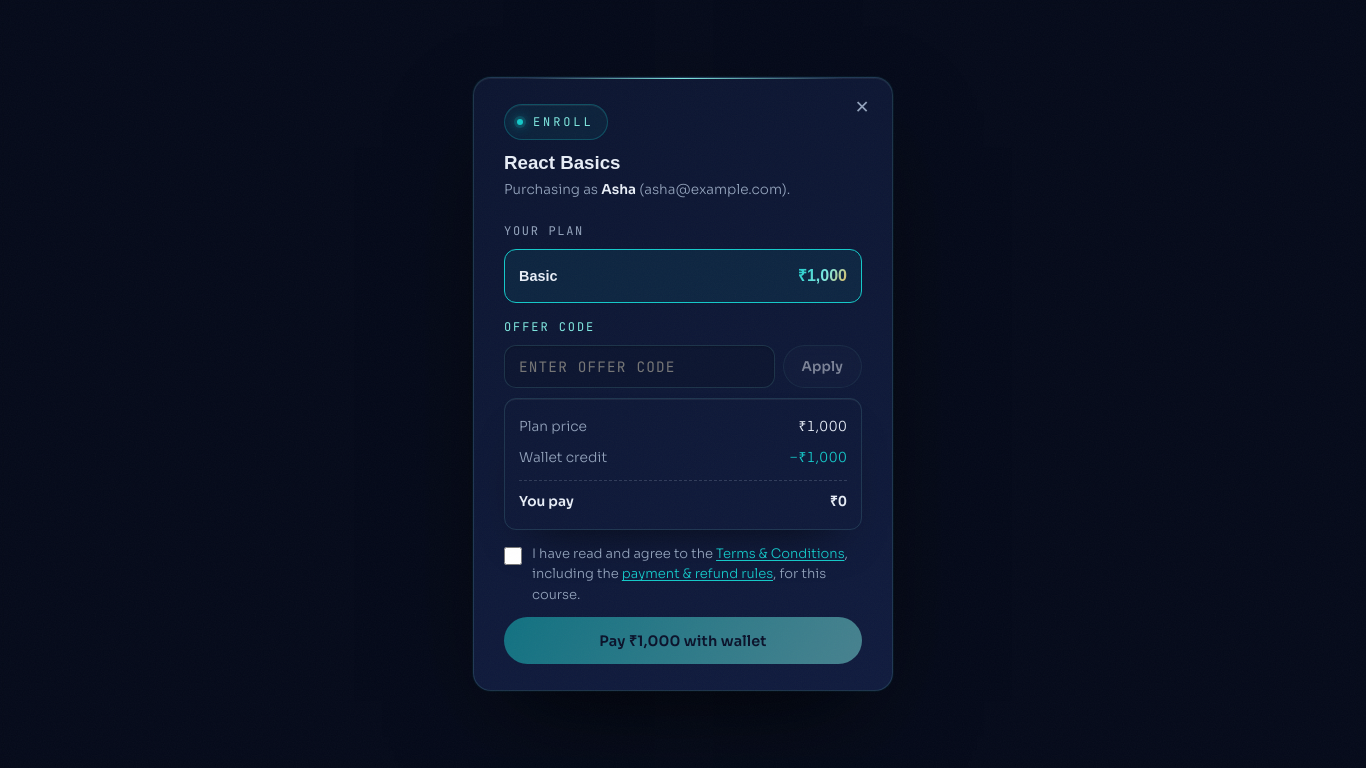
Test: BuyModal with a wallet › offers to pay from the wallet when it covers the price, and never starts a Razorpay order
The width and height of the screenshot is (1366, 768).
Expected: the submit button reads "Pay ₹1,000 with wallet", 504,617 -> 862,664
Expected: the element with class "is-total" reads "You pay ₹0", 519,480 -> 847,517
Step 1. Click the checkbox → click(513, 556), box 504,547 -> 522,565
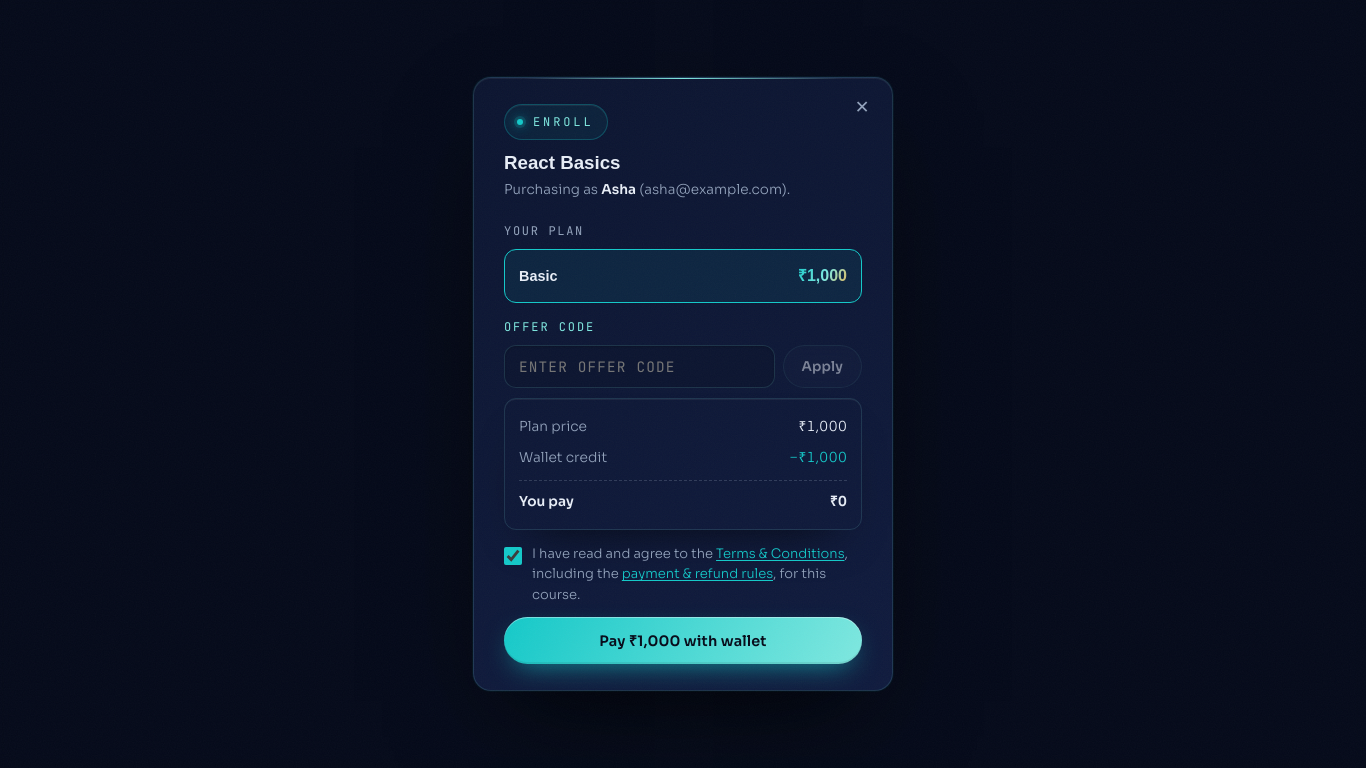
Step 2. Submit the form, box 504,221 -> 862,664
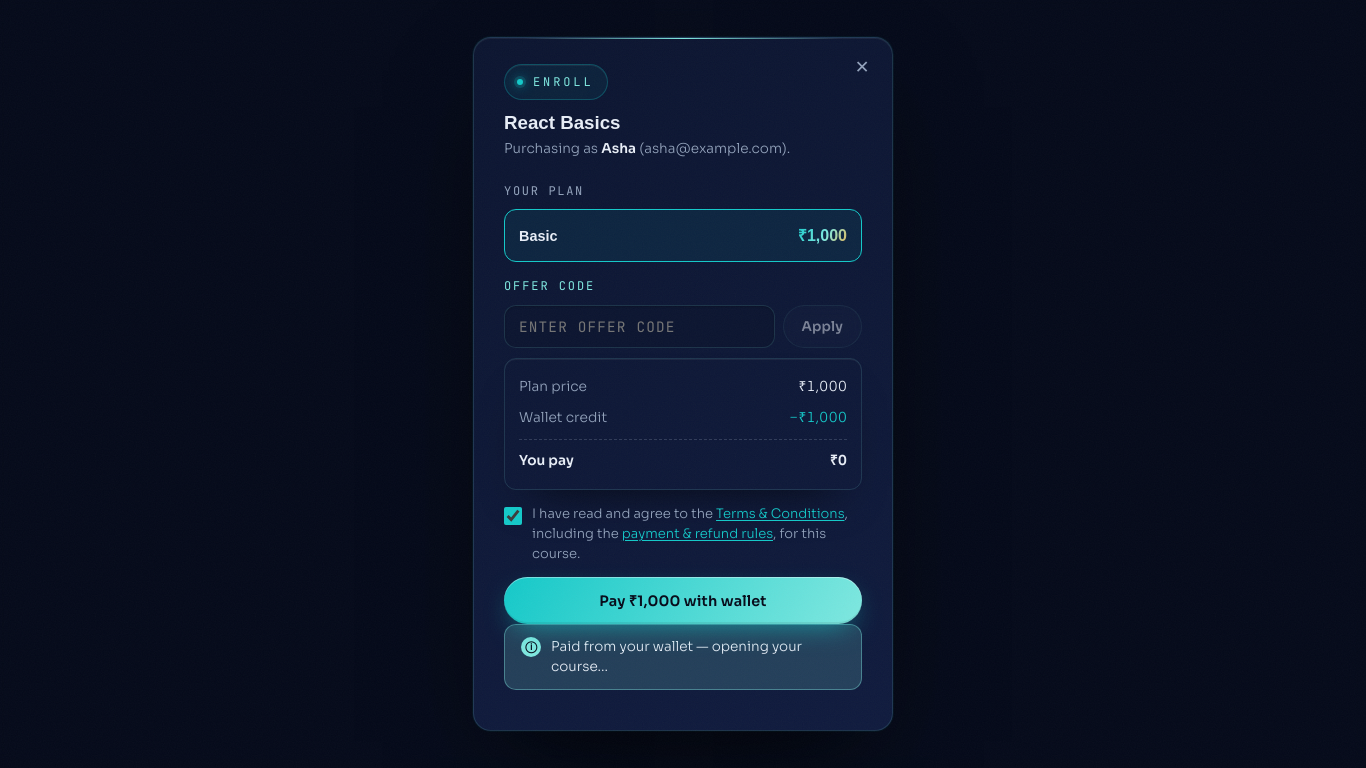
Expected: the message with class "alert-inline" shows "Paid from your wallet", 551,638 -> 802,675
